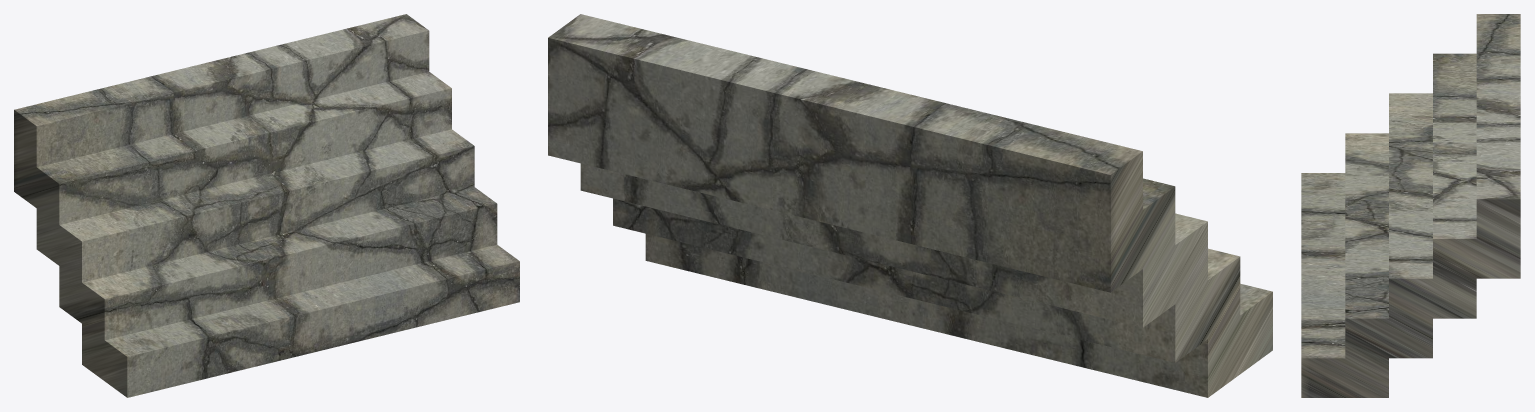
Rendered from Stairs.fbx.
The picture shows the model from 3 angles, left to right: view 1: azimuth 30°, elevation 25°; view 2: azimuth 150°, elevation 25°; view 3: azimuth 270°, elevation 25°; orthographic projection. The views are drawn at different scales.
Visible parts, largest first — view 1: pCube1; view 2: pCube1; view 3: pCube1.
Boxes of the visible parts, box(x1,y1,x2,y2) form: pCube1: box(14, 14, 519, 397); pCube1: box(548, 14, 1272, 397); pCube1: box(1301, 14, 1520, 397).
Size of the model in its own units: 10 by 5 by 5.
1 material, 1 textured.
